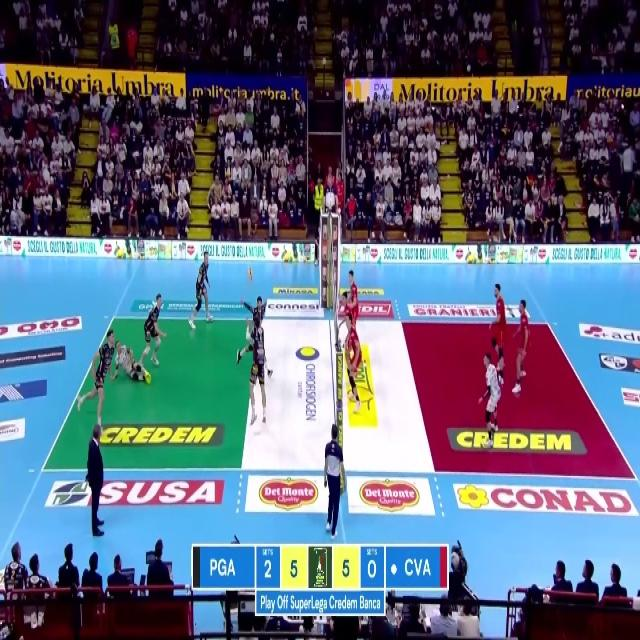volleyball court: (41, 316, 639, 482)
